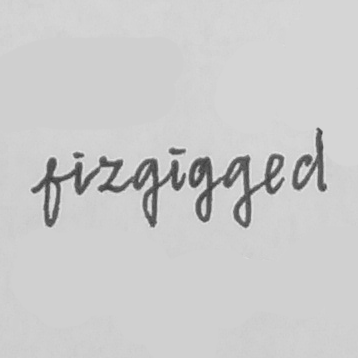d: (290, 120, 335, 194)
e: (261, 149, 286, 195)
f: (39, 154, 65, 229)
g: (220, 152, 255, 230), (129, 154, 161, 229), (186, 154, 217, 225)
i: (163, 143, 185, 193), (68, 148, 87, 198)
z: (92, 153, 126, 195)
